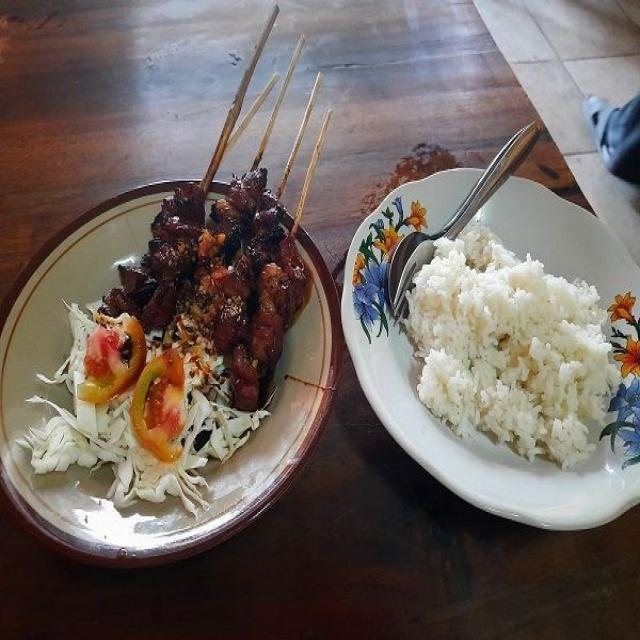nasi: (412, 211, 623, 476)
sate: (106, 0, 336, 417)
